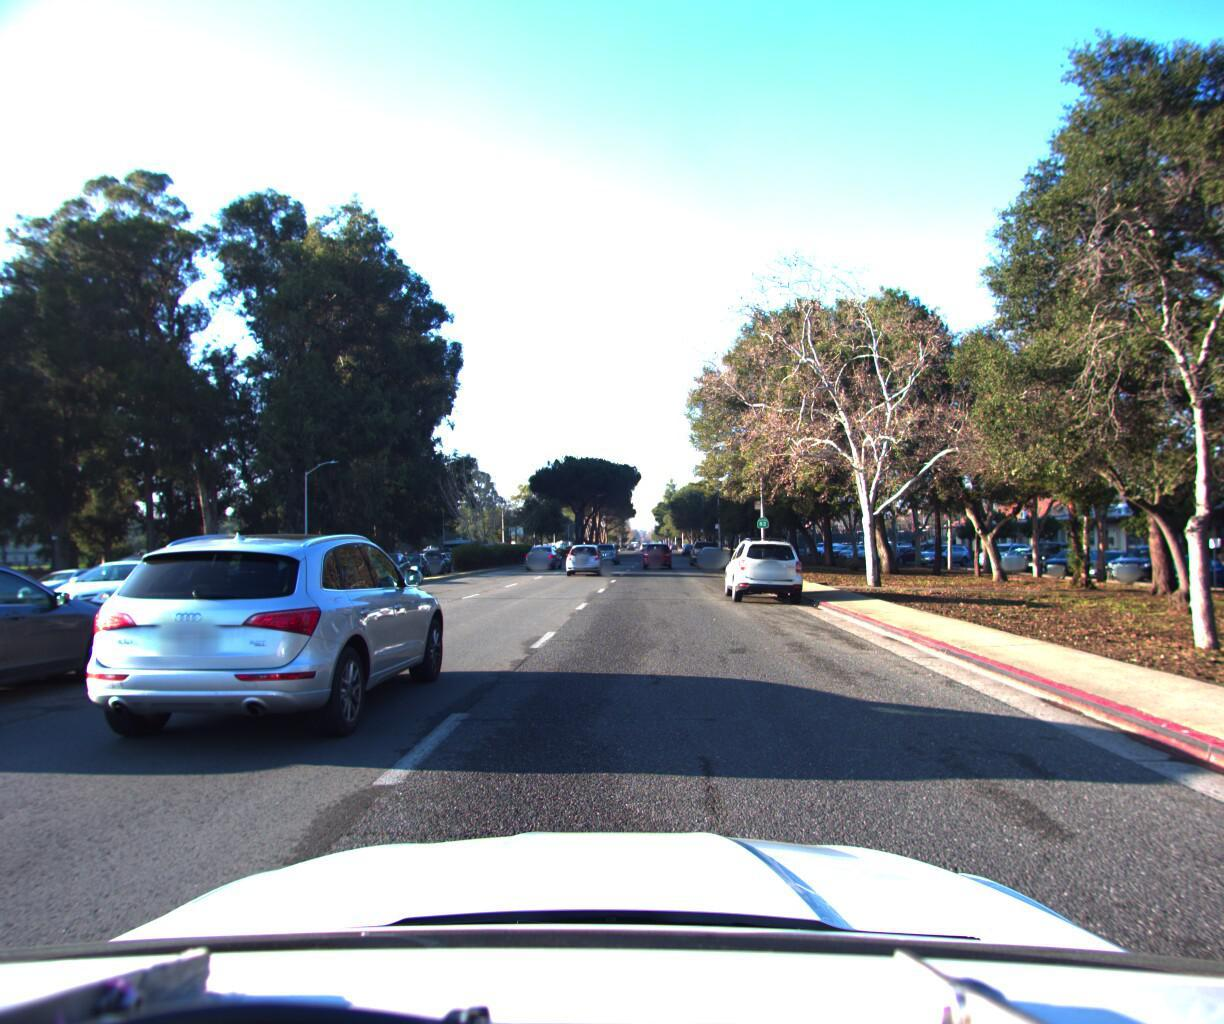car: (70, 525, 458, 765), (0, 541, 156, 760), (32, 553, 219, 628), (68, 542, 220, 610), (718, 527, 808, 601), (14, 562, 123, 606), (358, 546, 414, 580), (564, 536, 605, 570), (387, 547, 432, 575), (414, 545, 455, 571), (523, 538, 561, 564), (694, 533, 727, 563), (686, 532, 717, 560), (638, 536, 669, 563), (592, 535, 621, 559)
other_vehicle: (246, 528, 336, 580), (0, 521, 4, 633)
